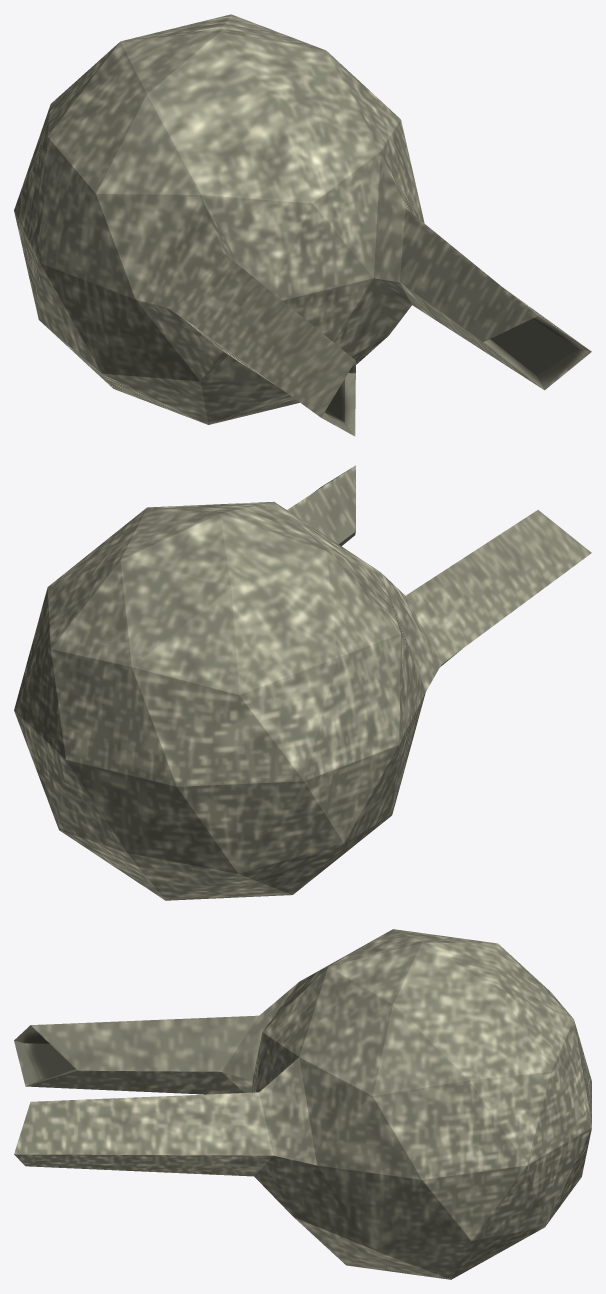
File: sa_turret.obj
3 renders of one model, top to bottom at view 1: azimuth 30°, elevation 25°; view 2: azimuth 150°, elevation 25°; view 3: azimuth 270°, elevation 25°, orthographic. The views are drawn at different scales.
Parts seen in each view (by area): view 1: Icosphere; view 2: Icosphere; view 3: Icosphere.
Part boxes in pixels (x1,y1,x2,y2): Icosphere: (14,14,591,436); Icosphere: (14,465,591,900); Icosphere: (14,929,591,1279).
Bounding box in the file's own units: 2 × 2 × 3.24.
1 material, 1 textured.
